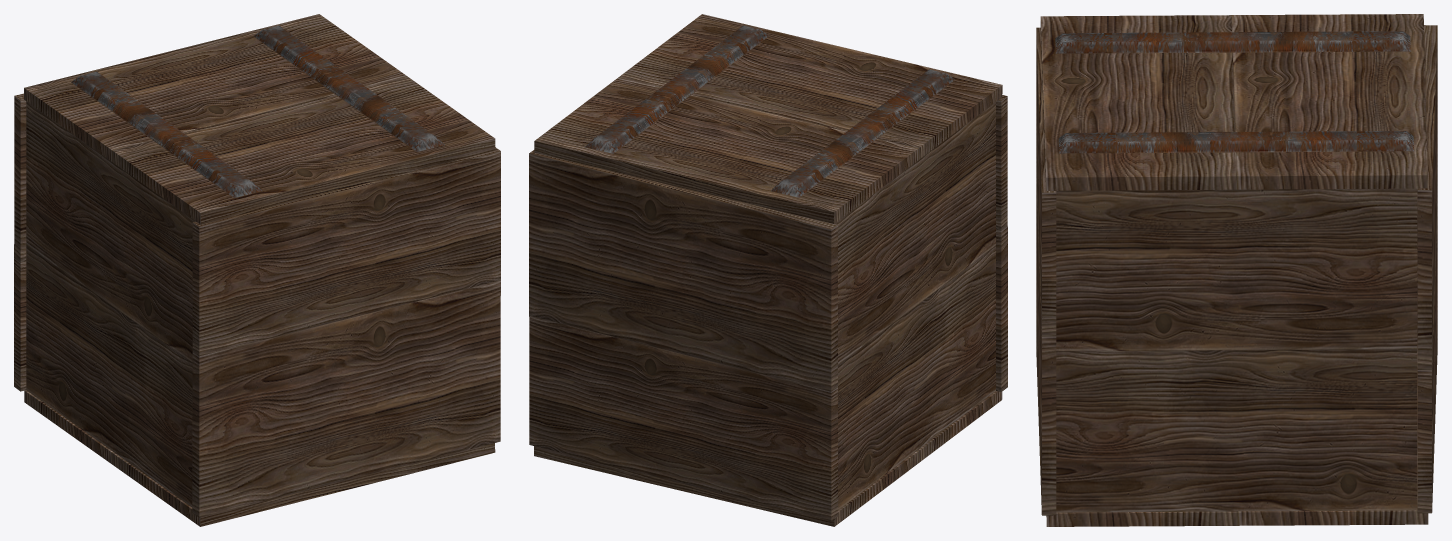
File: storage_box_04.fbx
3 renders of one model, left to right at view 1: azimuth 30°, elevation 25°; view 2: azimuth 150°, elevation 25°; view 3: azimuth 270°, elevation 25°, orthographic. The views are drawn at different scales.
Visible parts, largest first — view 1: storage_box_04; view 2: storage_box_04; view 3: storage_box_04.
Boxes of the visible parts, left/top/right/bottom form: storage_box_04: left=14, top=14, right=500, bottom=526; storage_box_04: left=529, top=14, right=1007, bottom=526; storage_box_04: left=1036, top=14, right=1437, bottom=526.
Size of the model in its own units: 72.61 by 72.24 by 73.53.
